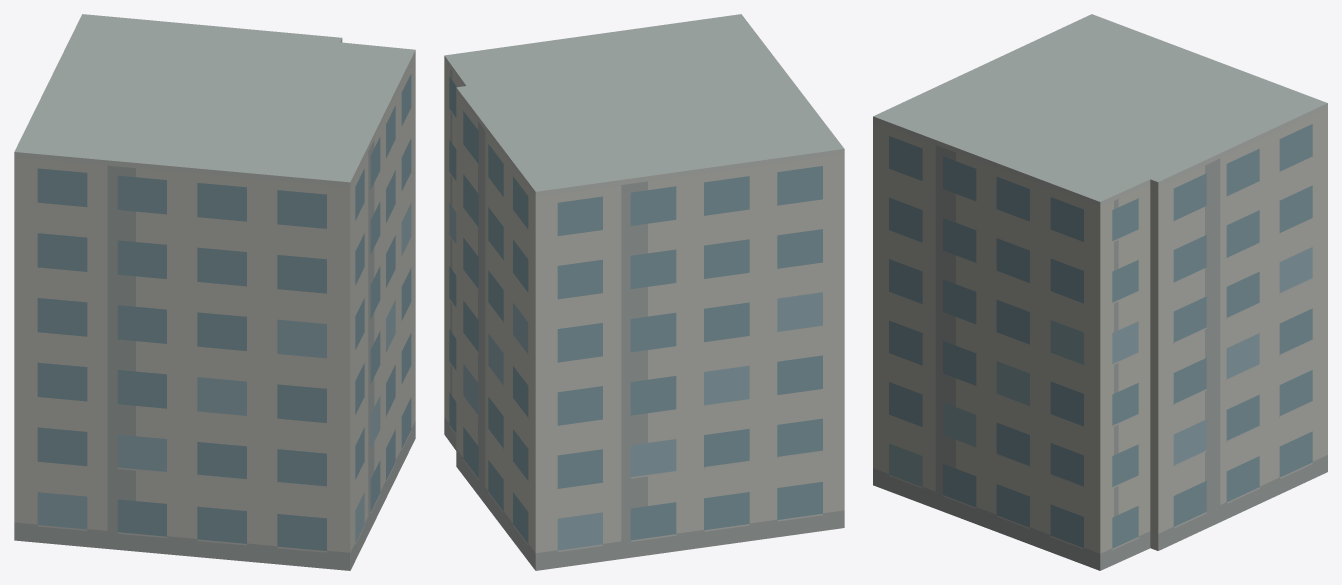
The model's file is survey-upis-33036577.glb.
3 views of the same model, side by side, from view 1: azimuth 30°, elevation 25°; view 2: azimuth 150°, elevation 25°; view 3: azimuth 270°, elevation 25° (orthographic). The views are drawn at different scales.
Parts seen in each view (by area): view 1: survey-upis-33036577.tmp; view 2: survey-upis-33036577.tmp; view 3: survey-upis-33036577.tmp.
Part boxes in pixels (x1,y1,x2,y2): survey-upis-33036577.tmp: [14, 14, 415, 570]; survey-upis-33036577.tmp: [444, 14, 844, 570]; survey-upis-33036577.tmp: [873, 14, 1327, 570].
Size of the model in its own units: 19.57 by 17.9 by 20.01.
